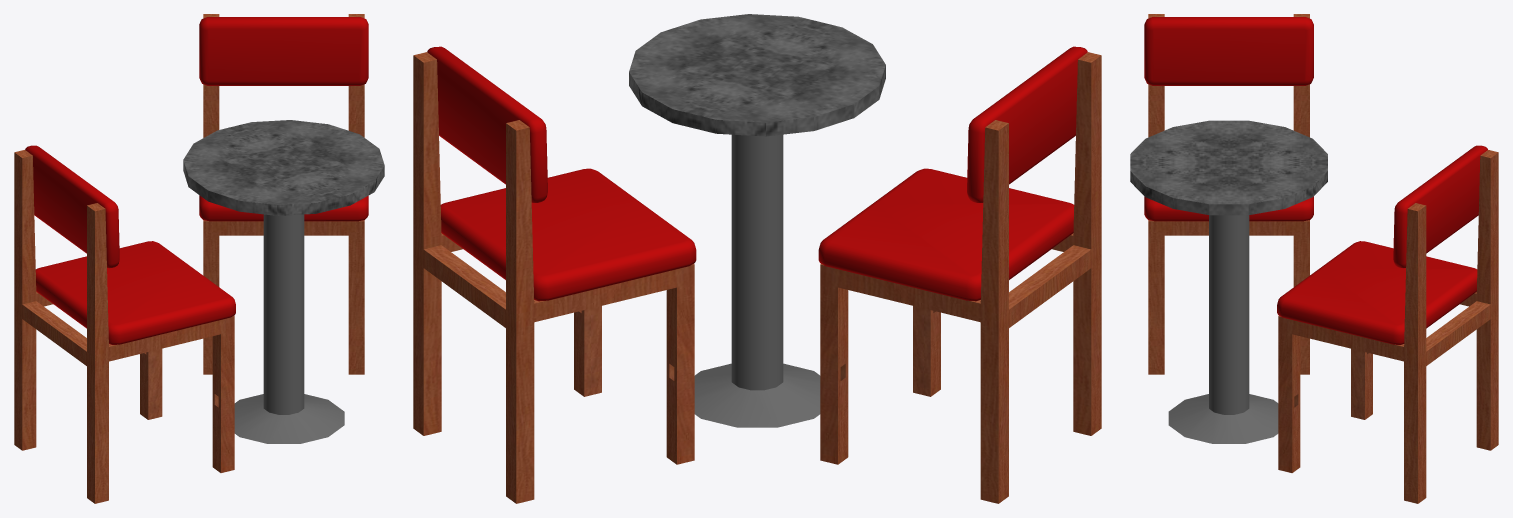
3 views of the same model, side by side, from view 1: azimuth 30°, elevation 25°; view 2: azimuth 150°, elevation 25°; view 3: azimuth 270°, elevation 25° (orthographic). The views are drawn at different scales.
Visible parts, largest first — view 1: Material2.010, Material2.015, Material2.027, Material2.013, Material2.004, Material2.009, Material2.026, Material2.018, Material2.005, Material2.020, Material2.024, Material2.021 (+7 smaller); view 2: Material2, Material2.015, Material2.005, Material2.010, Material2.025, Material2.003, Material2.018, Material2.024, Material2.008, Material2.013, Material2.022, Material2.026 (+7 smaller); view 3: Material2.005, Material2, Material2.008, Material2.019, Material2.014, Material2.023, Material2.021, Material2.022, Material2.020, Material2.003, Material2.010, Material2.024 (+7 smaller).
Boxes of the visible parts, x1,y1,x2,y2 form: Material2.010: (54,203,234,503); Material2.015: (14,150,162,450); Material2.027: (234,215,313,443); Material2.013: (68,269,235,344); Material2.004: (199,17,283,85); Material2.009: (284,17,368,85); Material2.026: (198,162,333,215); Material2.018: (35,241,194,315); Material2.005: (304,14,364,374); Material2.020: (284,141,384,209); Material2.024: (183,126,283,193); Material2.021: (294,214,344,440); Material2: (465,120,694,503); Material2.015: (820,120,1049,503); Material2.005: (413,52,601,435); Material2.010: (913,52,1101,435); Material2.025: (719,135,820,427); Material2.003: (482,204,696,301); Material2.018: (818,204,1032,301); Material2.024: (694,68,866,136); Material2.008: (440,168,643,263); Material2.013: (871,168,1074,263); Material2.022: (629,41,756,128); Material2.026: (758,22,885,108); Material2.005: (1278,203,1458,503); Material2: (1351,150,1498,450); Material2.008: (1277,269,1444,344); Material2.019: (1229,17,1313,85); Material2.014: (1144,17,1228,85); Material2.023: (1229,215,1278,443); Material2.021: (1168,215,1228,443); Material2.022: (1229,162,1327,215); Material2.020: (1130,162,1228,215); Material2.003: (1318,241,1477,315); Material2.010: (1148,14,1208,374); Material2.024: (1229,120,1327,162).
Bounding box in the file's own units: 45.57 × 31.91 × 35.96.
4 materials, 2 textured.
